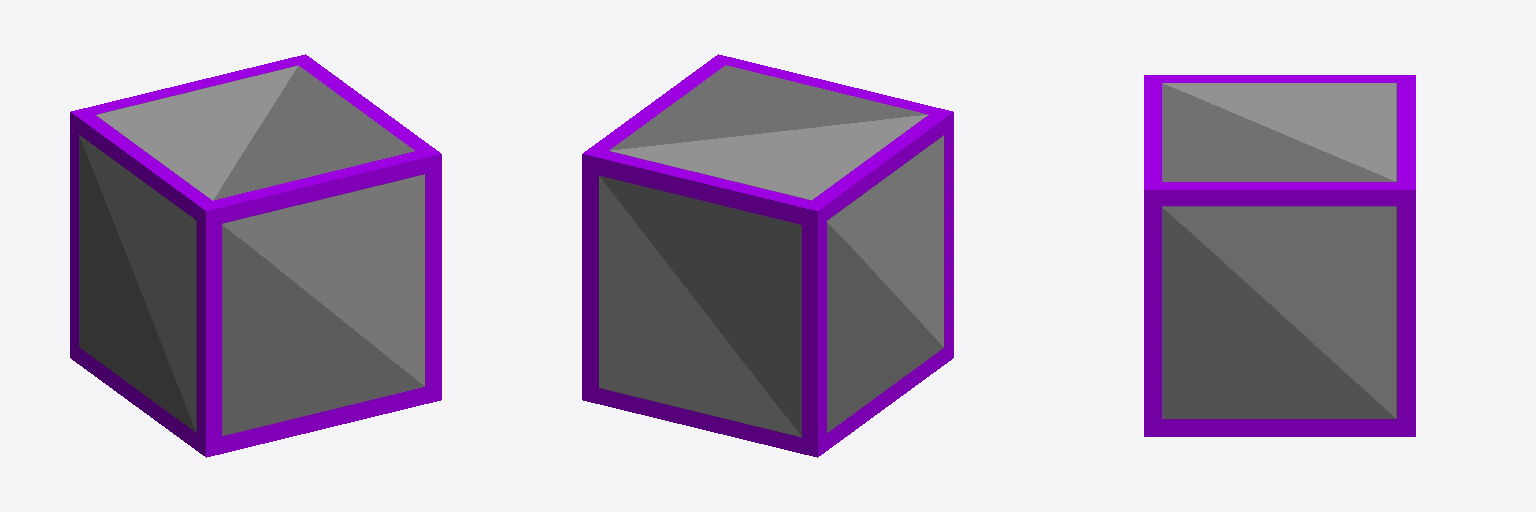
The picture shows the model from 3 angles: view 1: azimuth 30°, elevation 25°; view 2: azimuth 150°, elevation 25°; view 3: azimuth 270°, elevation 25°; orthographic projection.
Visible parts, largest first — view 1: Cube; view 2: Cube; view 3: Cube.
Boxes of the visible parts, box(x1,y1,x2,y2) form: Cube: box(70, 54, 441, 457); Cube: box(582, 54, 953, 457); Cube: box(1144, 75, 1415, 436).
Size of the model in its own units: 2 by 2 by 2.
Materials: 1 (1 with a texture image).